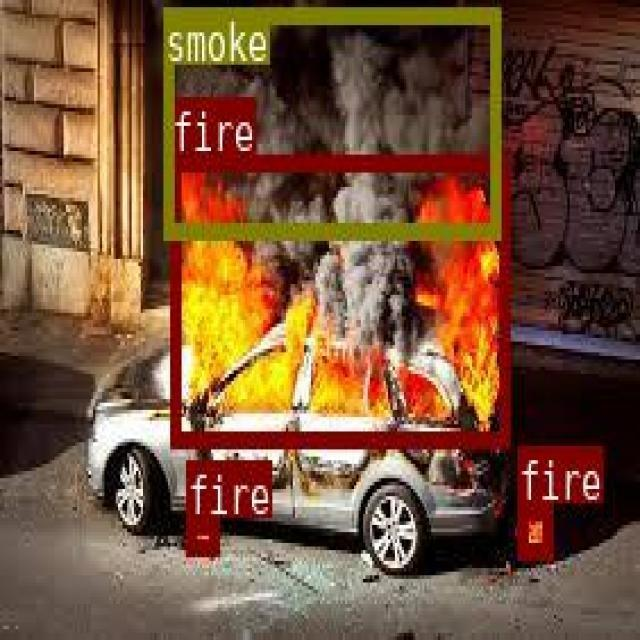fire: (168, 155, 508, 445), (517, 500, 551, 556), (185, 517, 217, 550)
smoke: (162, 5, 498, 236)
